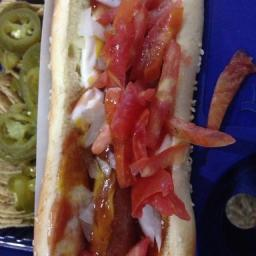hotdog: (98, 178, 142, 256)
